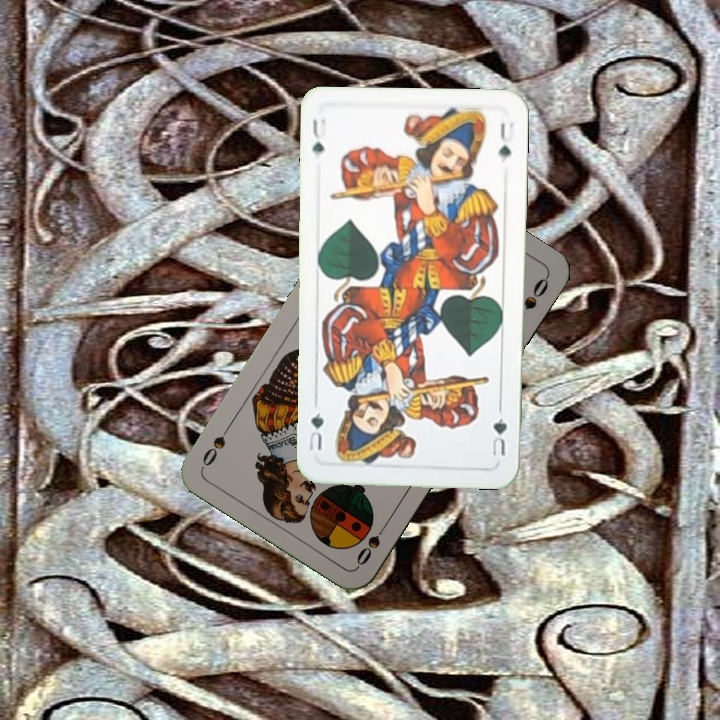GU: (488, 413, 509, 461), (309, 114, 329, 157)
SO: (352, 516, 392, 568)
